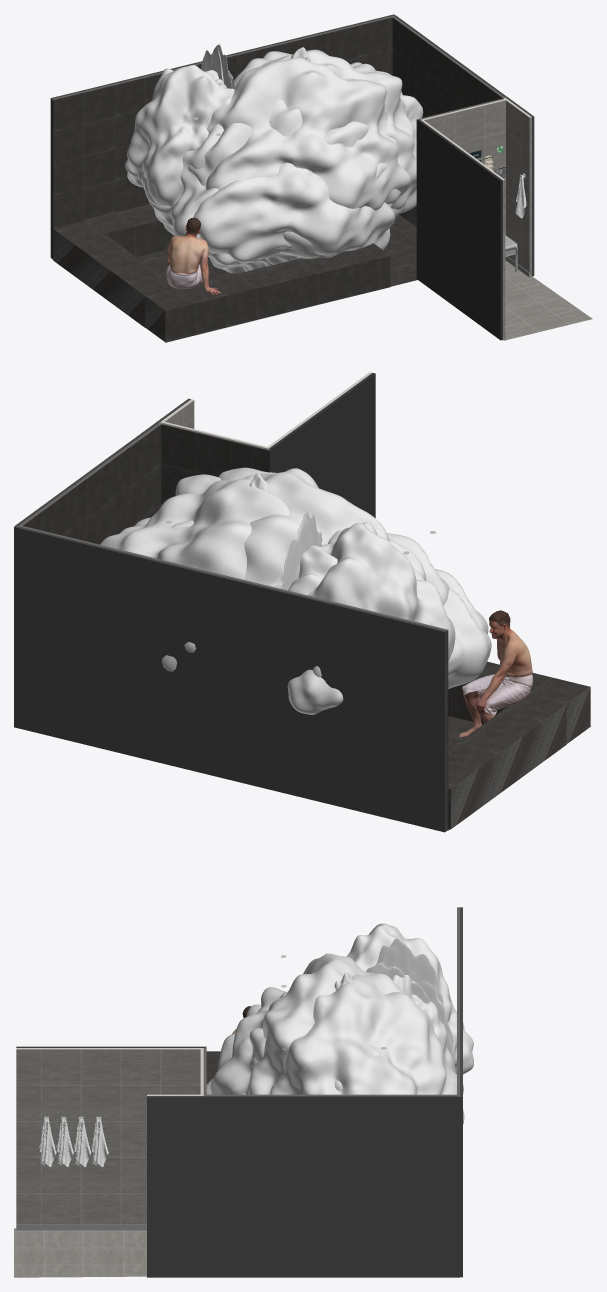
The model's file is aussen.glb.
3 views of the same model, one above another, from view 1: azimuth 30°, elevation 25°; view 2: azimuth 150°, elevation 25°; view 3: azimuth 270°, elevation 25° (orthographic). The views are drawn at different scales.
Parts seen in each view (by area): view 1: saunainnen, saunahalb, SteamCloudMesh.003, SteamCloudMesh.001, SteamCloudMesh.007, SteamCloudMesh.002, SteamCloudMesh.004, People in the sauna x 5-001, SteamCloudMesh.006; view 2: saunainnen, saunahalb, SteamCloudMesh.002, SteamCloudMesh.007, SteamCloudMesh.003, People in the sauna x 5-001, SteamCloudMesh.004, SteamCloudMesh.009, SteamCloudMesh.008, SteamCloudMesh.006, SteamCloudMesh.001; view 3: saunahalb, SteamCloudMesh.002, SteamCloudMesh.003, SteamCloudMesh.006, SteamCloudMesh.007, saunainnen, SteamCloudMesh.008, SteamCloudMesh.001, SteamCloudMesh.009.
Part boxes in pixels (x1=…): saunainnen: x1=50, y1=14, x2=507, y2=342; saunahalb: x1=194, y1=93, x2=592, y2=340; SteamCloudMesh.003: x1=206, y1=57, x2=411, y2=216; SteamCloudMesh.001: x1=187, y1=99, x2=395, y2=271; SteamCloudMesh.007: x1=127, y1=65, x2=234, y2=235; SteamCloudMesh.002: x1=262, y1=49, x2=423, y2=213; SteamCloudMesh.004: x1=148, y1=124, x2=319, y2=273; People in the sauna x 5-001: x1=166, y1=217, x2=220, y2=294; SteamCloudMesh.006: x1=201, y1=44, x2=234, y2=88; saunainnen: x1=14, y1=423, x2=591, y2=832; saunahalb: x1=15, y1=372, x2=484, y2=829; SteamCloudMesh.002: x1=100, y1=474, x2=289, y2=671; SteamCloudMesh.007: x1=308, y1=522, x2=455, y2=677; SteamCloudMesh.003: x1=171, y1=467, x2=449, y2=605; People in the sauna x 5-001: x1=459, y1=610, x2=532, y2=736; SteamCloudMesh.004: x1=413, y1=567, x2=491, y2=688; SteamCloudMesh.009: x1=287, y1=669, x2=343, y2=714; SteamCloudMesh.008: x1=268, y1=545, x2=337, y2=595; SteamCloudMesh.006: x1=282, y1=511, x2=322, y2=590; SteamCloudMesh.001: x1=389, y1=538, x2=488, y2=633; saunahalb: x1=14, y1=955, x2=463, y2=1277; SteamCloudMesh.002: x1=239, y1=974, x2=464, y2=1124; SteamCloudMesh.003: x1=210, y1=953, x2=406, y2=1094; SteamCloudMesh.006: x1=366, y1=938, x2=453, y2=1061; SteamCloudMesh.007: x1=346, y1=923, x2=464, y2=1029; saunainnen: x1=206, y1=907, x2=462, y2=1096; SteamCloudMesh.008: x1=391, y1=975, x2=455, y2=1073; SteamCloudMesh.001: x1=206, y1=991, x2=287, y2=1094; SteamCloudMesh.009: x1=448, y1=1012, x2=473, y2=1074.
Bounding box in the file's own units: 93.89 × 55.04 × 121.
75 materials, 43 textured.
